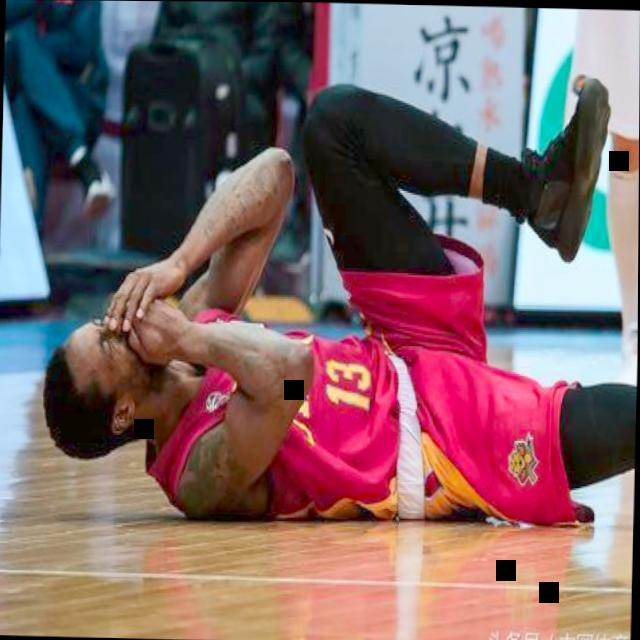Fall-Detected: (21, 42, 640, 538)
